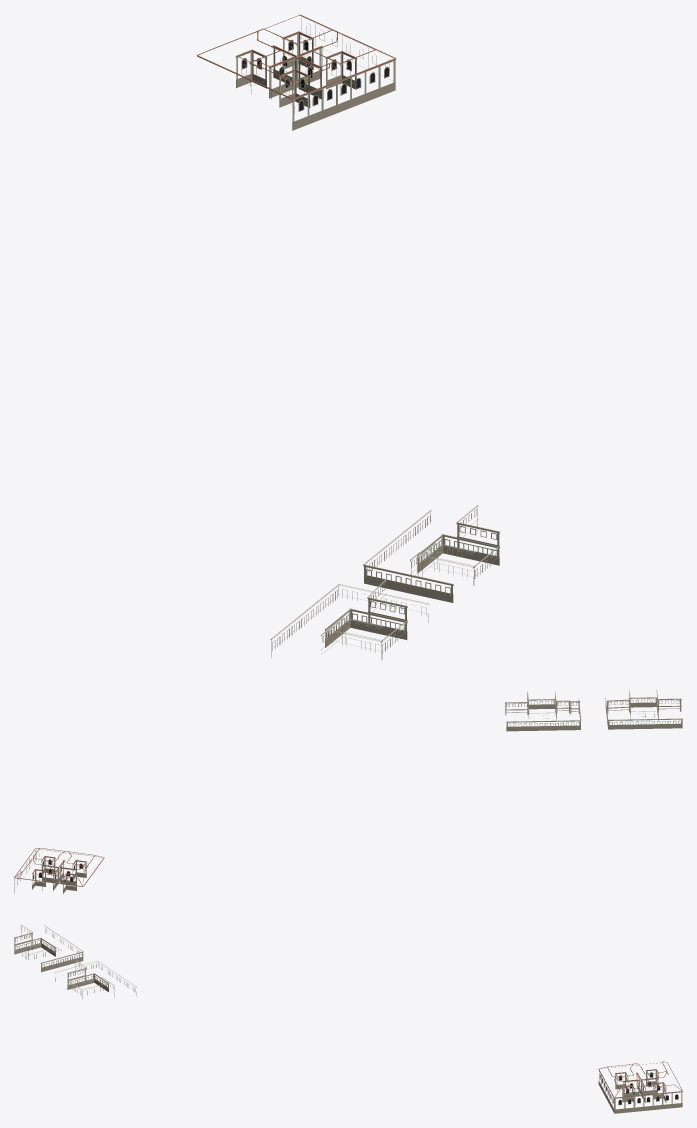
3 views of the same model, one above another, from view 1: azimuth 30°, elevation 25°; view 2: azimuth 150°, elevation 25°; view 3: azimuth 270°, elevation 25° (orthographic). The views are drawn at different scales.
Visible parts, largest first — view 1: detail; view 2: detail; view 3: detail.
Boxes of the visible parts, box(x1,y1,x2,y2) form: detail: box(197, 14, 499, 659); detail: box(14, 689, 682, 893); detail: box(14, 924, 682, 1113).
Size of the model in its own units: 221 by 16.18 by 369.
